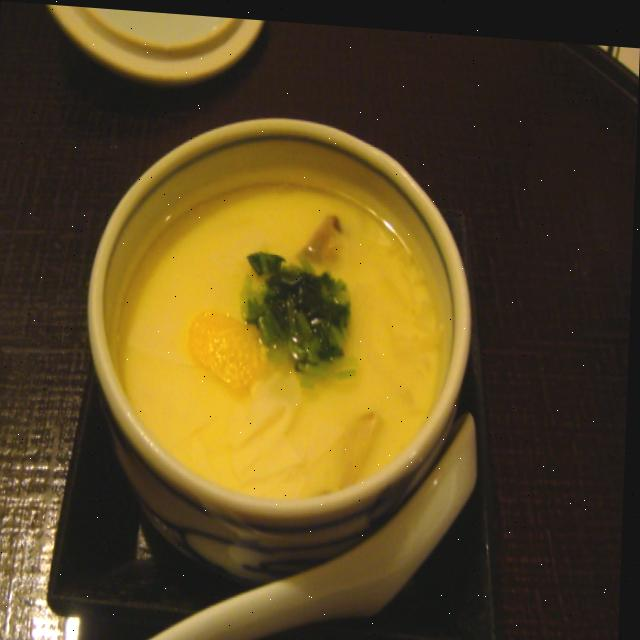鸡蛋料理: (83, 88, 489, 580)
